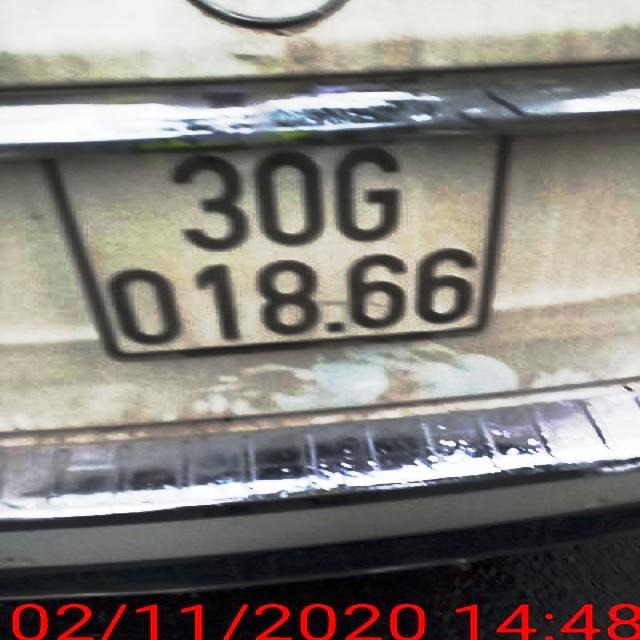license_plate: (45, 131, 517, 362)
